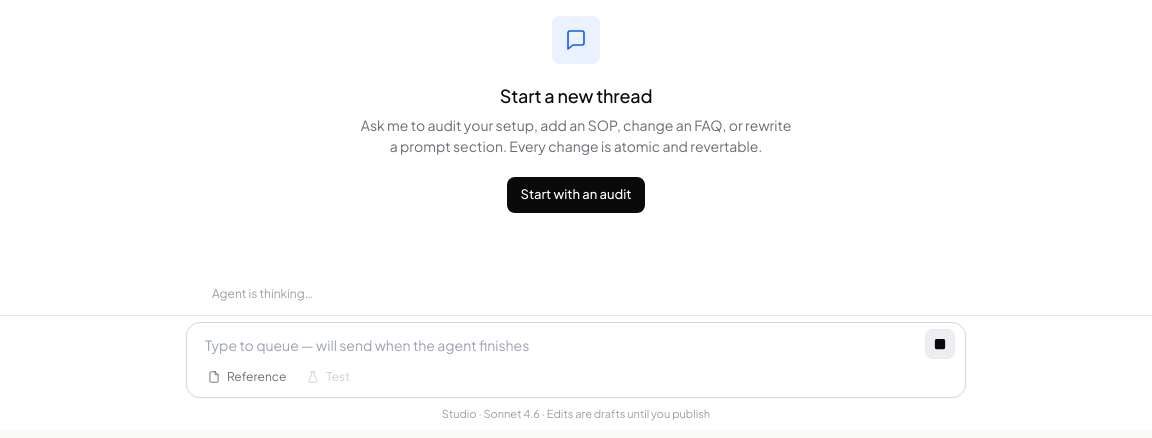
StudioChat composer while agent is busy (058-A F9e) › pressing Enter while busy enqueues and shows the Queued badge
Type "follow-up" into the text box named "Message the studio agent" at [557, 344], box [197,330,917,358]
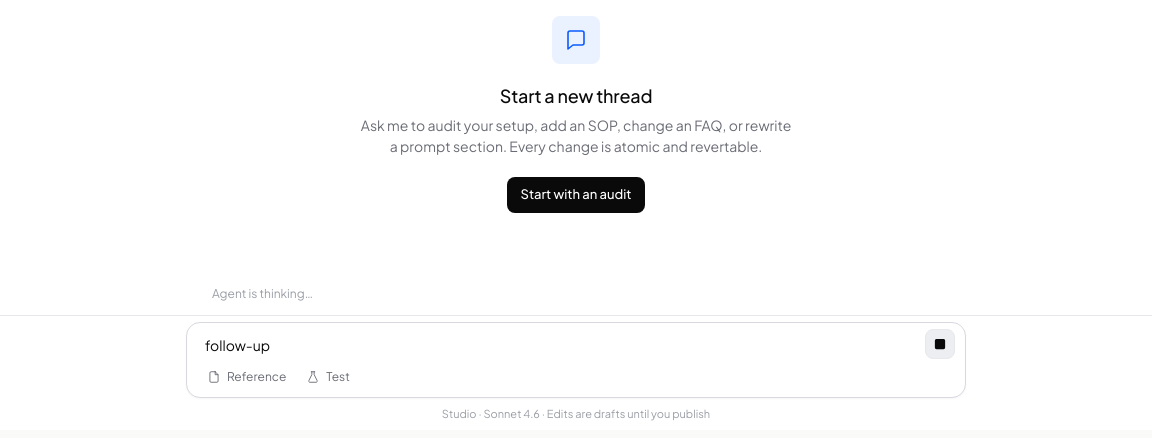
Press Enter in the text box named "Message the studio agent", box [197,330,917,358]
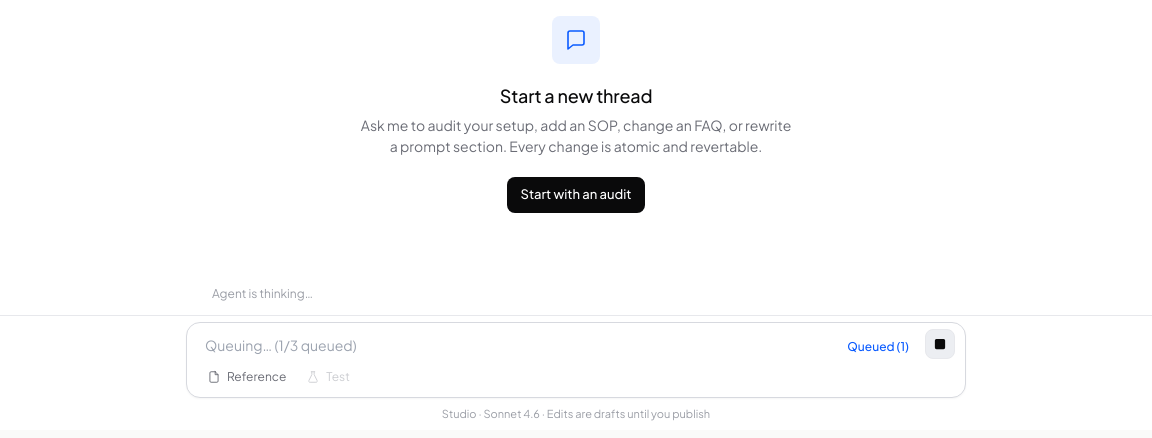
Result: the button with test id "queue-badge" reads "Queued (1)" at [839,334,917,358]
